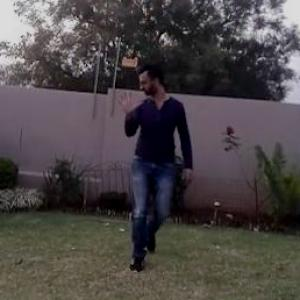follow_hand: (113, 86, 137, 115)
